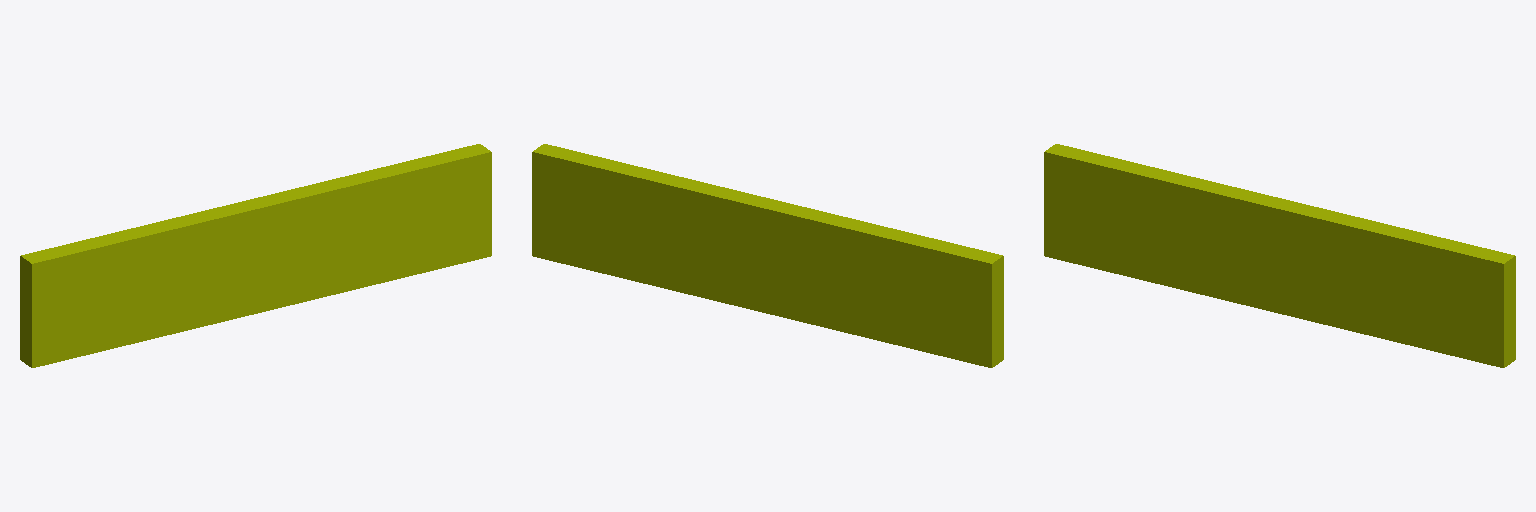
URDF robot description (back_boundary):
<?xml version="1.0"?>
<!-- created with Phobos 1.0.1 "Capricious Choutengan" -->
  <robot name="back_boundary">

    <link name="back_wall">
      <inertial>
        <contact>
          <lateral_friction value="1"/>
        </contact>
        <origin xyz="0 0 0" rpy="0 0 0"/>
        <mass value="0.001"/>
        <inertia ixx="0.001" ixy="0" ixz="0" iyy="0.001" iyz="0" izz="0.001"/>
      </inertial>
      <visual name="Cube">
        <origin xyz="0 0 0" rpy="0 0 0"/>
        <geometry>
          <box size="2.3 0.1 0.5"/>
        </geometry>
        <material name="blue"/>
      </visual>
      <collision>
        <origin rpy="0 0 0" xyz="0 0 0"/>
        <geometry>
          <box size="2.3 0.1 0.5"/>
        </geometry>
      </collision>
    </link>

    <material name="blue">
      <color rgba="0.68 0.74 0.04 1.0"/>
    </material>

  </robot>

--- Render facts (derived) ---
Views: 3 orthographic renders of the robot side by side, from view 1: azimuth 30°, elevation 25°; view 2: azimuth 150°, elevation 25°; view 3: azimuth 330°, elevation 25°.
Model back_boundary with 1 links and 0 joints (none), rooted at back_wall, posed every joint at zero.
Links seen in each view (by area): view 1: back_wall; view 2: back_wall; view 3: back_wall.
Boxes of the visible links, x1,y1,x2,y2 form: back_wall: (20,144,491,367); back_wall: (532,144,1003,367); back_wall: (1044,144,1515,367).
Size in the robot's own frame: 2.3 by 0.1 by 0.5 metres.
Geometry: primitives only (box / cylinder / sphere), no mesh files.